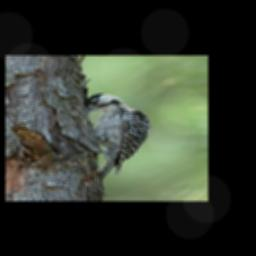Woodpecker: (83, 93, 152, 179)
